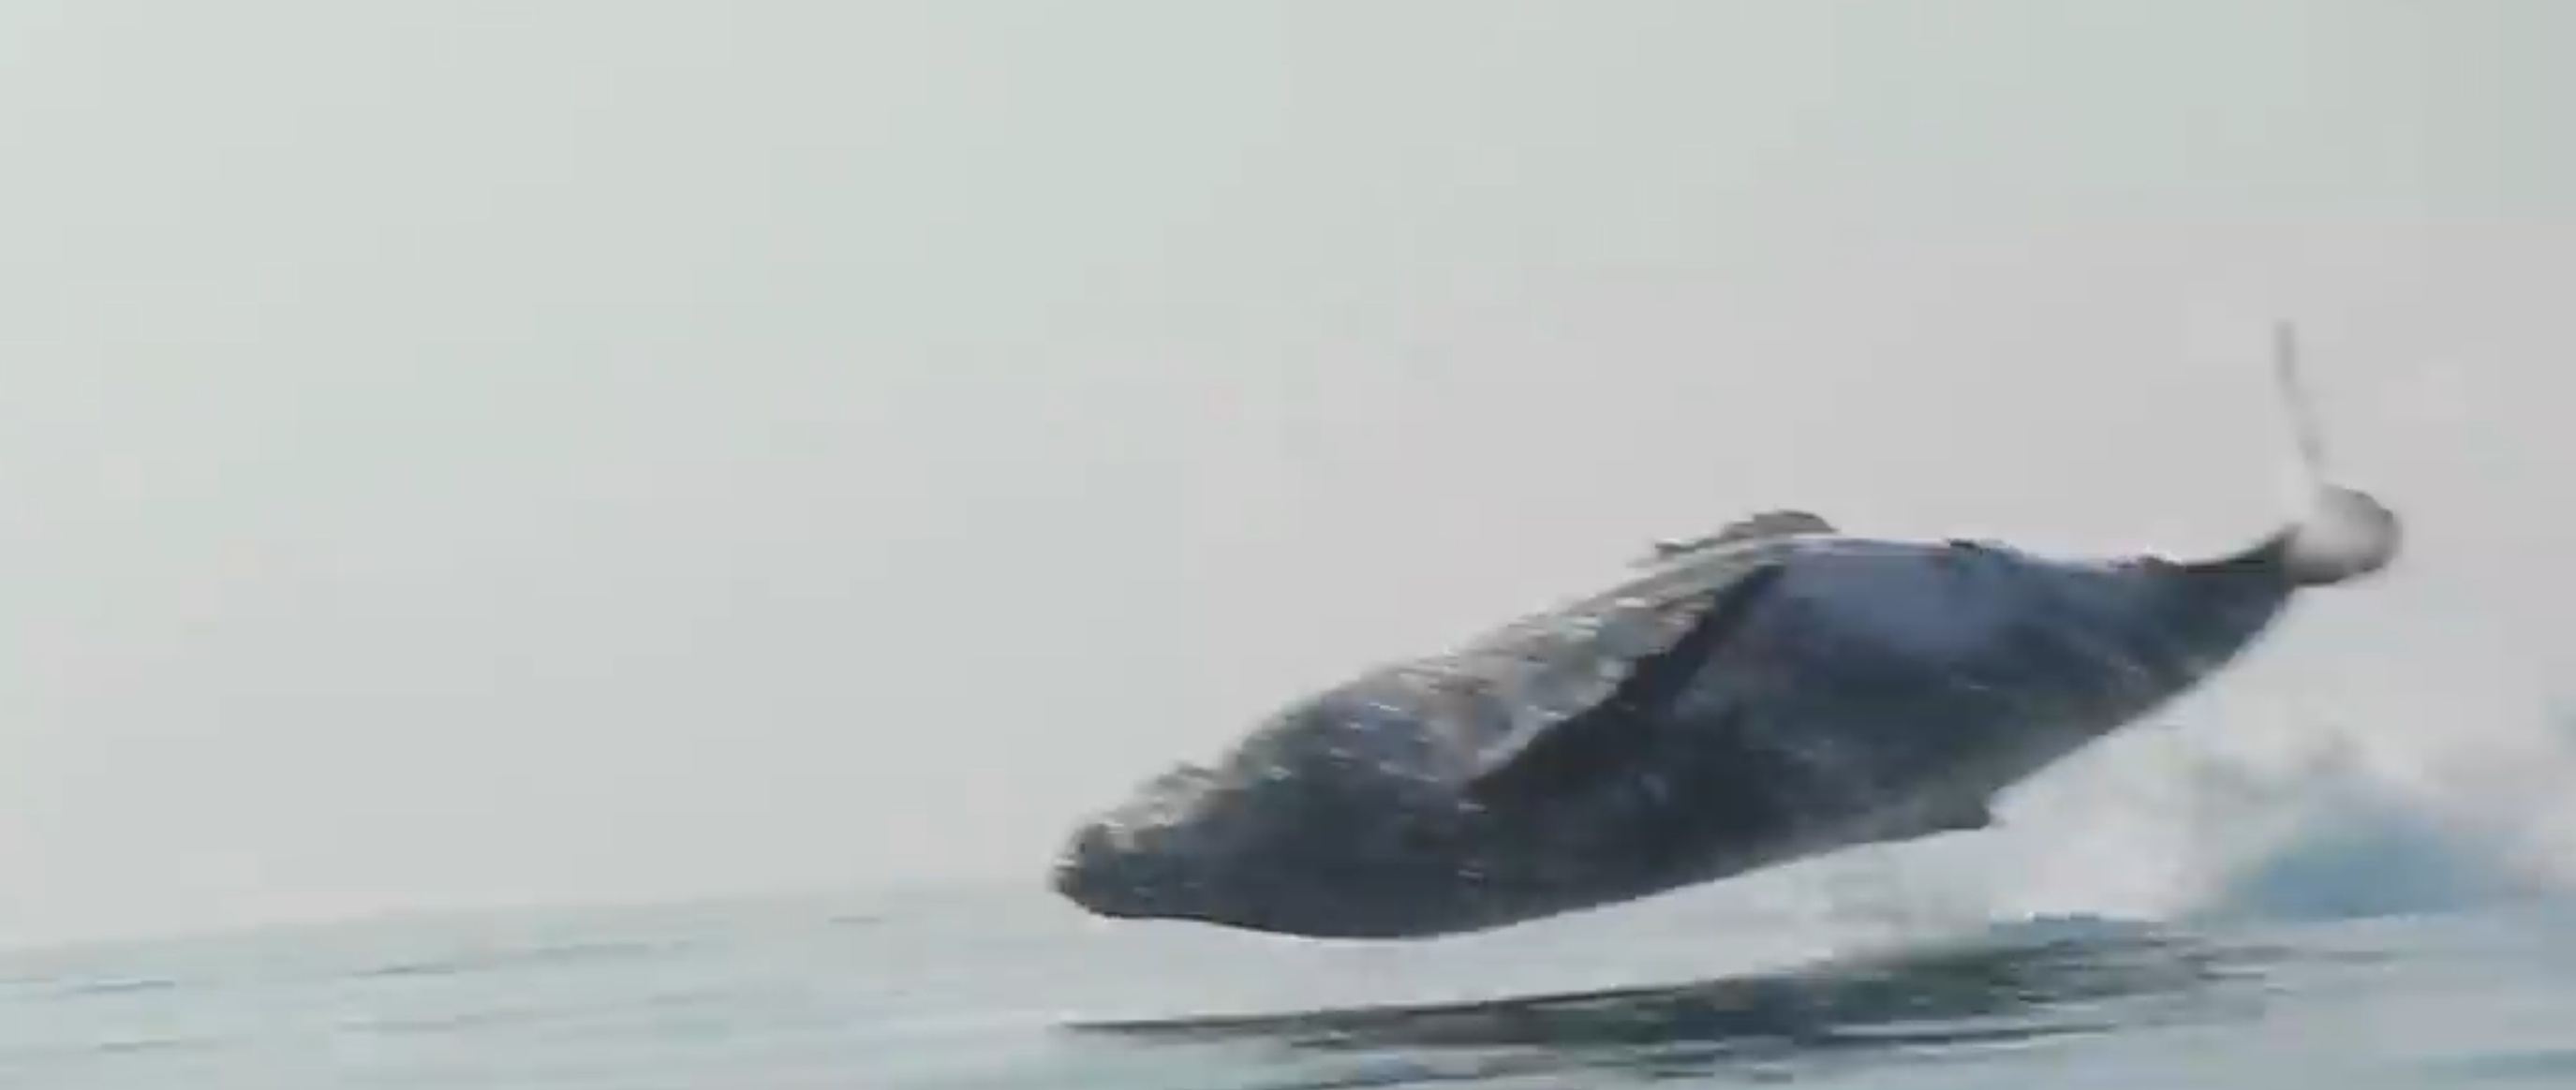humpback: (1050, 492, 2295, 937)
